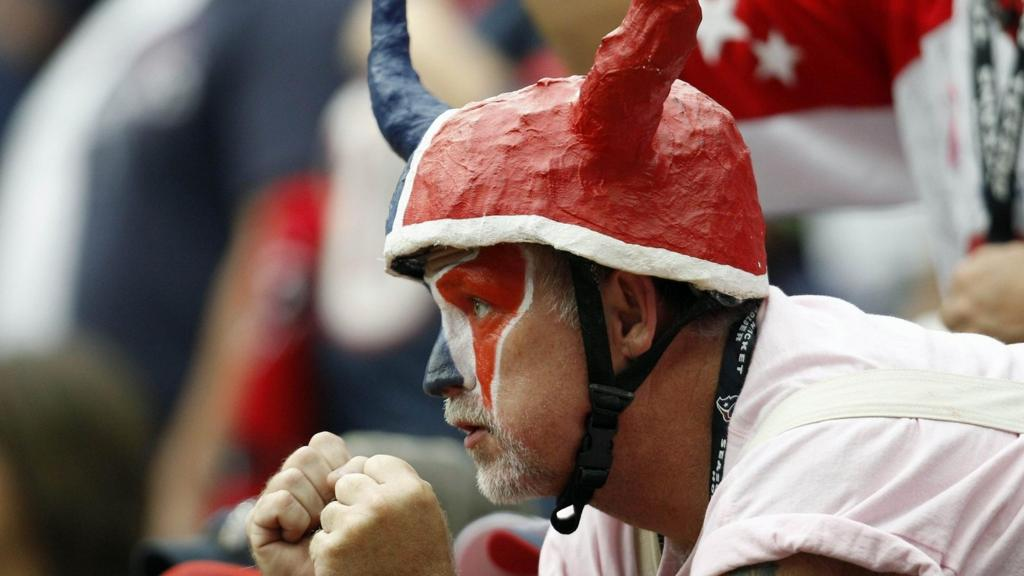face: (420, 228, 572, 506)
